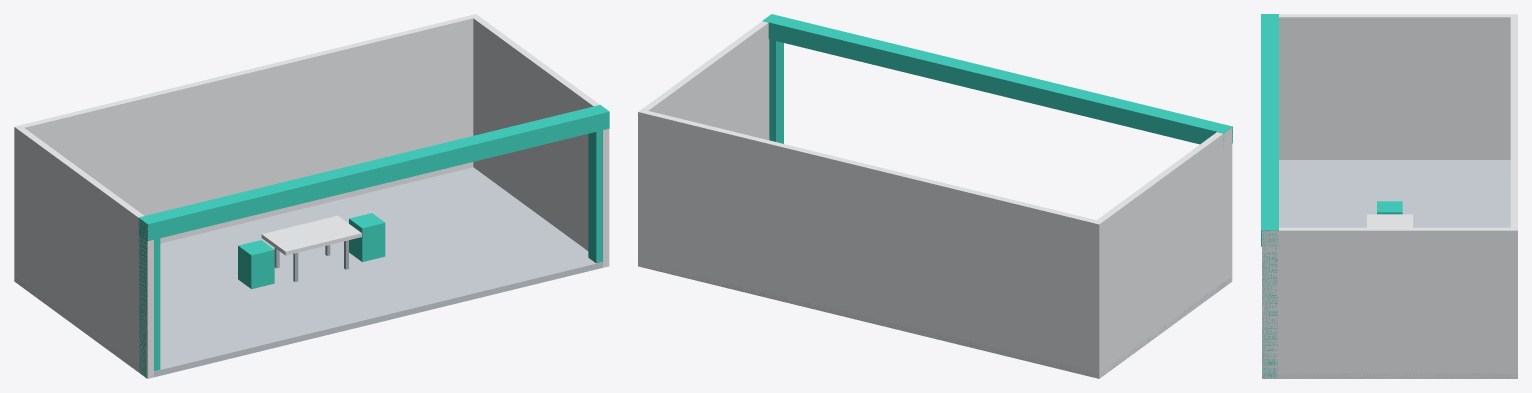
3 renders of one model, left to right at view 1: azimuth 30°, elevation 25°; view 2: azimuth 150°, elevation 25°; view 3: azimuth 270°, elevation 25°, orthographic. The views are drawn at different scales.
Visible parts, largest first — view 1: Exhibition Booth Concept; view 2: Exhibition Booth Concept; view 3: Exhibition Booth Concept.
Boxes of the visible parts, x1,y1,x2,y2 form: Exhibition Booth Concept: [14, 14, 609, 378]; Exhibition Booth Concept: [638, 14, 1232, 378]; Exhibition Booth Concept: [1261, 14, 1517, 378].
Size of the model in its own units: 10 by 3.2 by 5.02.
